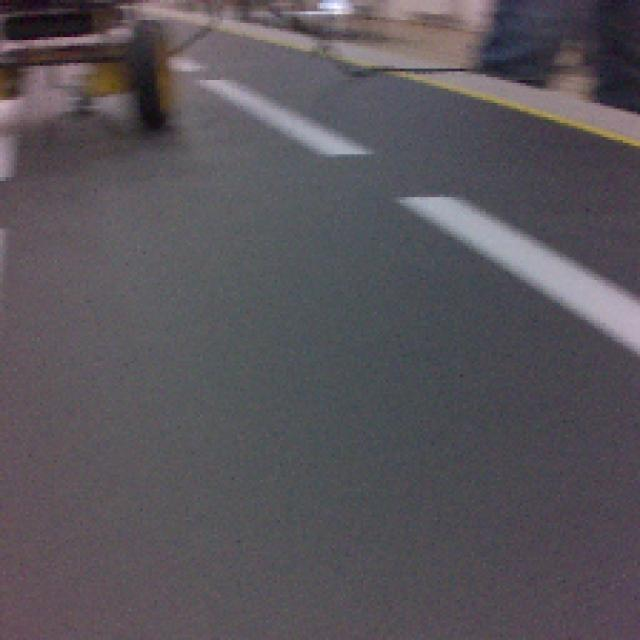Road: (2, 428, 639, 636)
